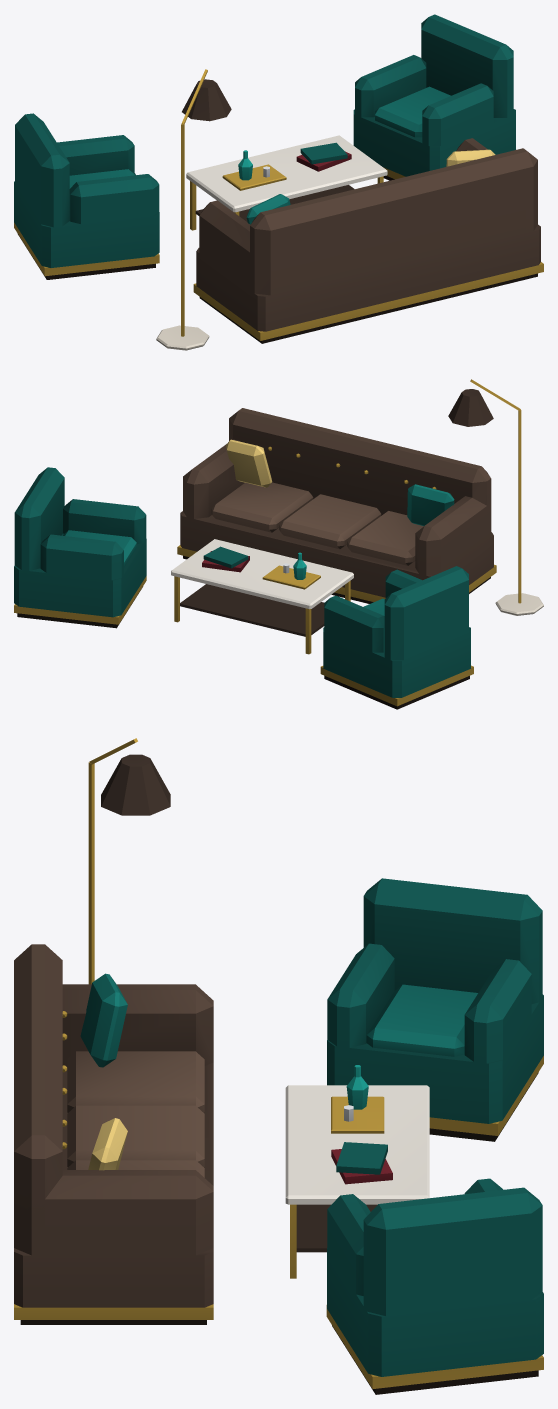
File: set_boss_lounge_01.glb
3 renders of one model, top to bottom at view 1: azimuth 30°, elevation 25°; view 2: azimuth 150°, elevation 25°; view 3: azimuth 270°, elevation 25°, orthographic. The views are drawn at different scales.
Visible parts, largest first — view 1: set_boss_lounge_01_mesh; view 2: set_boss_lounge_01_mesh; view 3: set_boss_lounge_01_mesh.
Boxes of the visible parts, left/top/right/bottom form: set_boss_lounge_01_mesh: left=14, top=14, right=543, bottom=350; set_boss_lounge_01_mesh: left=14, top=379, right=543, bottom=709; set_boss_lounge_01_mesh: left=14, top=738, right=543, bottom=1394.
Size of the model in its own units: 3.68 by 1.86 by 2.39.
2 materials, 2 textured.
